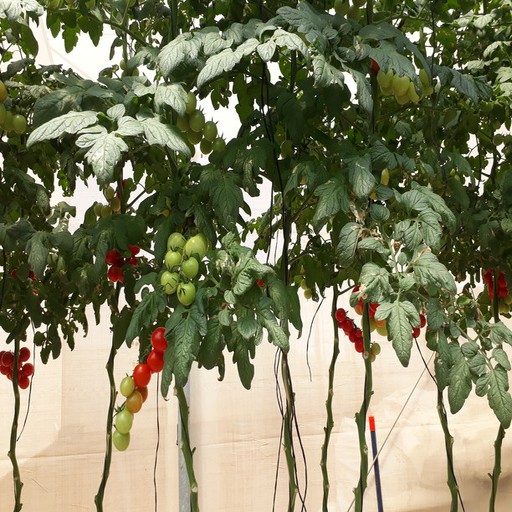green tomato bunch: (168, 87, 225, 154), (161, 231, 210, 305), (1, 81, 29, 132), (93, 185, 122, 215)
mixed tomato bunch: (112, 329, 170, 450), (353, 288, 397, 335)
red tomato bunch: (334, 308, 379, 362), (378, 66, 433, 101), (1, 348, 35, 391), (106, 240, 139, 283), (482, 265, 510, 301)
